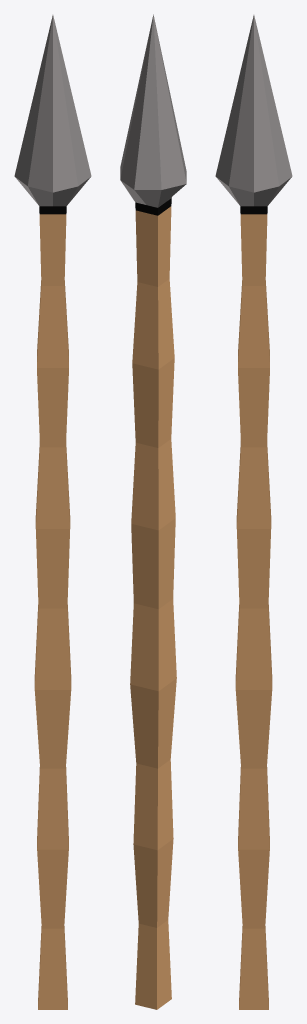
File: spear.fbx
3 renders of one model, left to right at view 1: azimuth 90°, elevation 25°; view 2: azimuth 150°, elevation 25°; view 3: azimuth 270°, elevation 25°, orthographic.
Visible parts, largest first — view 1: Cube; view 2: Cube; view 3: Cube.
Boxes of the visible parts, bbox=[...] form: Cube: bbox=[14, 15, 91, 1009]; Cube: bbox=[120, 14, 186, 1009]; Cube: bbox=[215, 15, 292, 1009].
Size of the model in its own units: 65.92 by 934 by 65.92.
